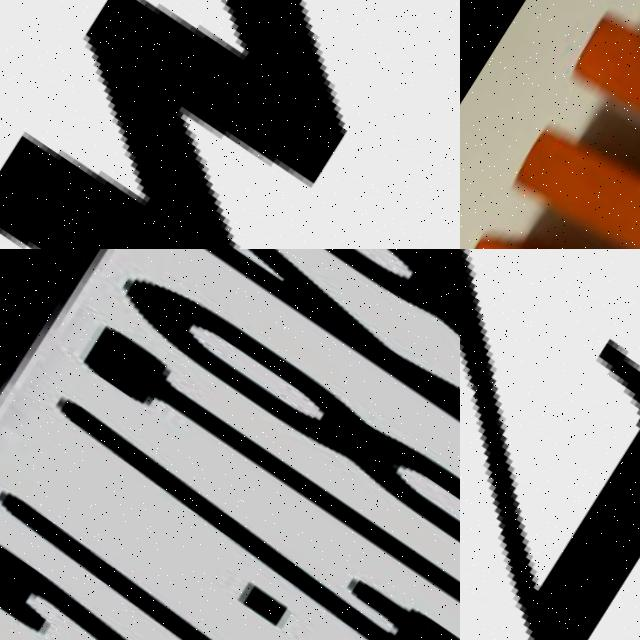2: (460, 249, 640, 640)
4: (28, 367, 460, 640), (0, 471, 460, 640)
7: (0, 520, 451, 640)
8: (98, 253, 460, 640), (196, 249, 460, 491)
K: (168, 249, 460, 552)
T: (68, 313, 460, 640)
W: (0, 0, 460, 249), (460, 0, 640, 249)
